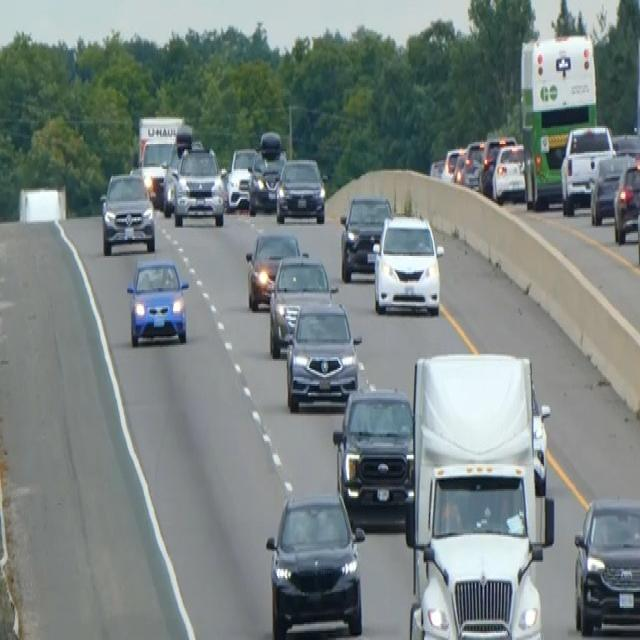bus: (518, 30, 598, 210)
car: (264, 489, 365, 638), (332, 384, 414, 523), (572, 494, 639, 635), (284, 298, 362, 411), (370, 212, 444, 316), (268, 252, 336, 358), (125, 256, 189, 347), (559, 123, 616, 213), (339, 192, 393, 281), (99, 169, 155, 254), (244, 229, 301, 311), (172, 144, 225, 228), (588, 151, 635, 226), (275, 155, 326, 224), (248, 130, 286, 212), (136, 134, 175, 206), (161, 128, 194, 213), (612, 154, 639, 243), (490, 142, 526, 203), (479, 135, 516, 194), (224, 144, 256, 210), (458, 138, 486, 188), (441, 144, 465, 183), (611, 130, 639, 160), (635, 176, 639, 270)
lorry: (403, 348, 555, 638)
